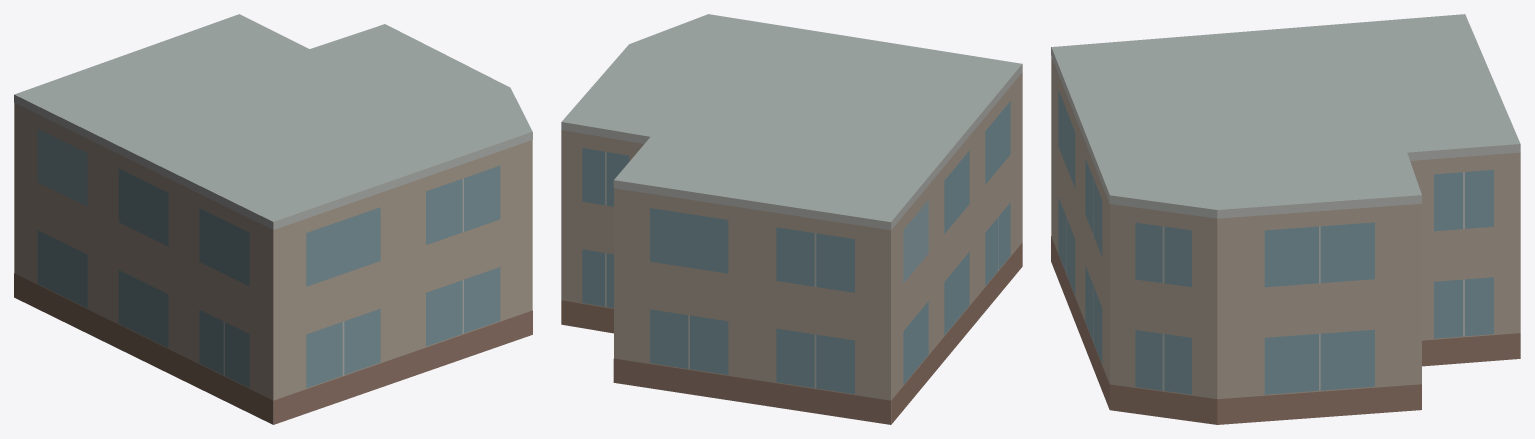
Rendered from survey-upis-32588901.glb.
3 views of the same model, side by side, from view 1: azimuth 30°, elevation 25°; view 2: azimuth 150°, elevation 25°; view 3: azimuth 270°, elevation 25° (orthographic). The views are drawn at different scales.
Visible parts, largest first — view 1: survey-upis-32588901.tmp; view 2: survey-upis-32588901.tmp; view 3: survey-upis-32588901.tmp.
Part boxes in pixels (x1,y1,x2,y2): survey-upis-32588901.tmp: (14,14,532,424); survey-upis-32588901.tmp: (561,14,1022,424); survey-upis-32588901.tmp: (1051,14,1520,424).
Bounding box in the file's own units: 11.95 × 6.1 × 12.09.
